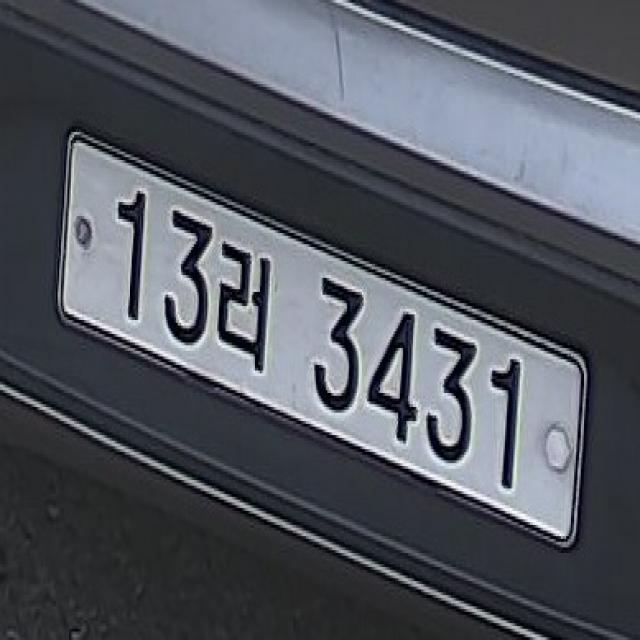1: (112, 181, 149, 326), (490, 356, 526, 499)
3: (426, 319, 477, 469), (314, 273, 364, 421), (165, 206, 212, 354)
4: (367, 306, 423, 454)
leo: (218, 232, 270, 388)
license_plate: (50, 124, 590, 561)
